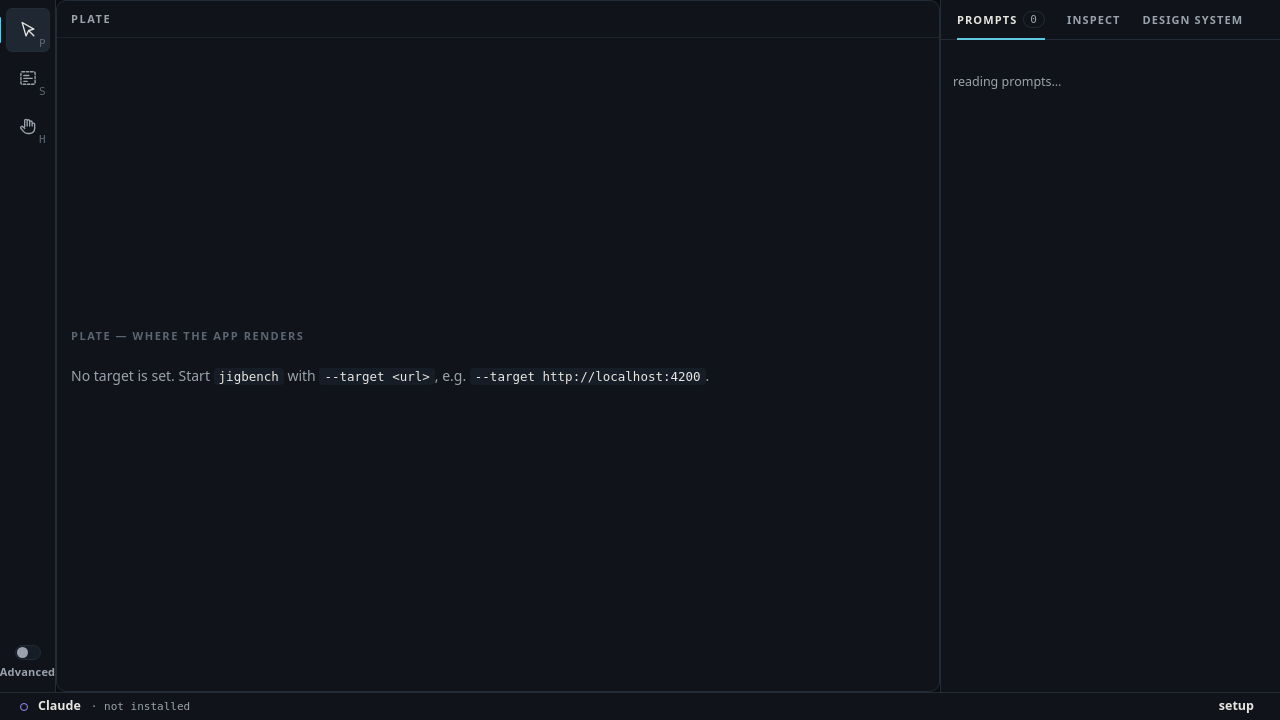
Test: App (#69: the plate is measured, so the card lands inside it) › "build this screen →" opens a card titled with the sketch's name, fully inside the plate
This screenshot has width=1280, height=720.
Click the button named "Sketch —" at point(28, 78), box x1=6 y1=56 x2=50 y2=100
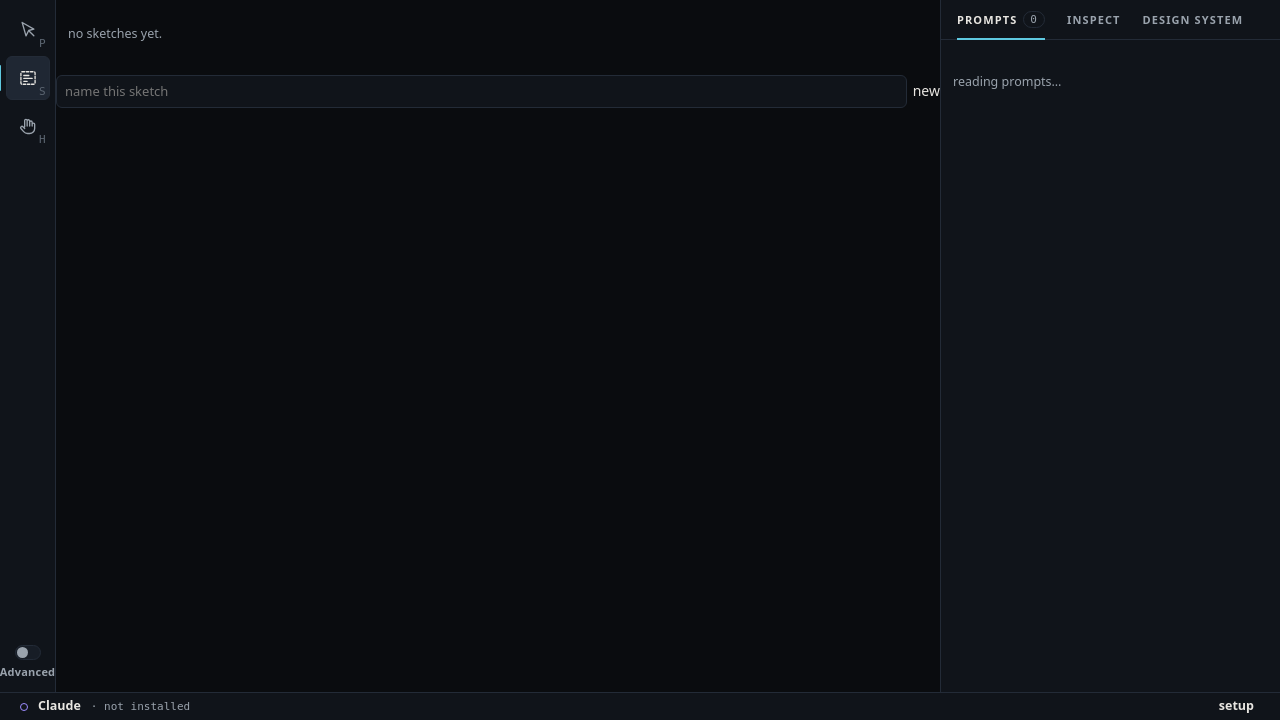
Expected: the text "no sketches yet." is shown, x1=68 y1=24 x2=162 y2=42
Type "Overdue invoices" into the field with placeholder "name this sketch" at point(481, 92), box x1=56 y1=75 x2=907 y2=108
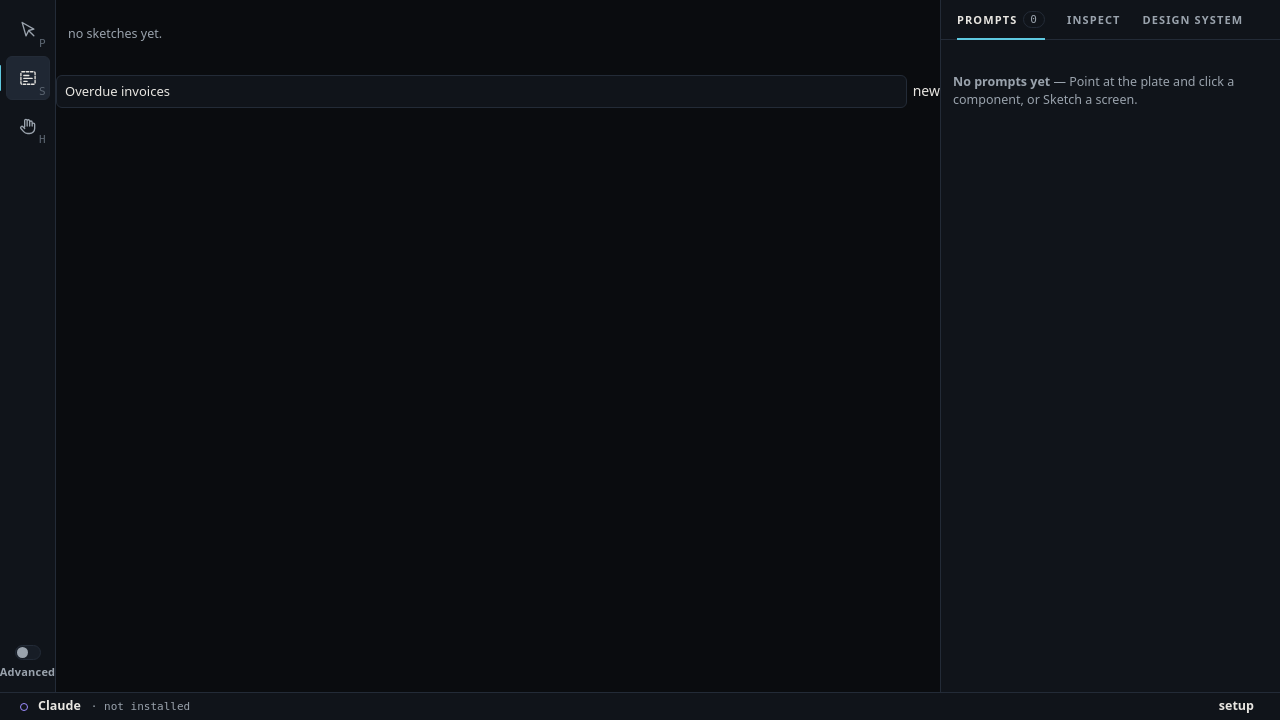
Click the button "new" at point(926, 92), box x1=913 y1=75 x2=940 y2=108
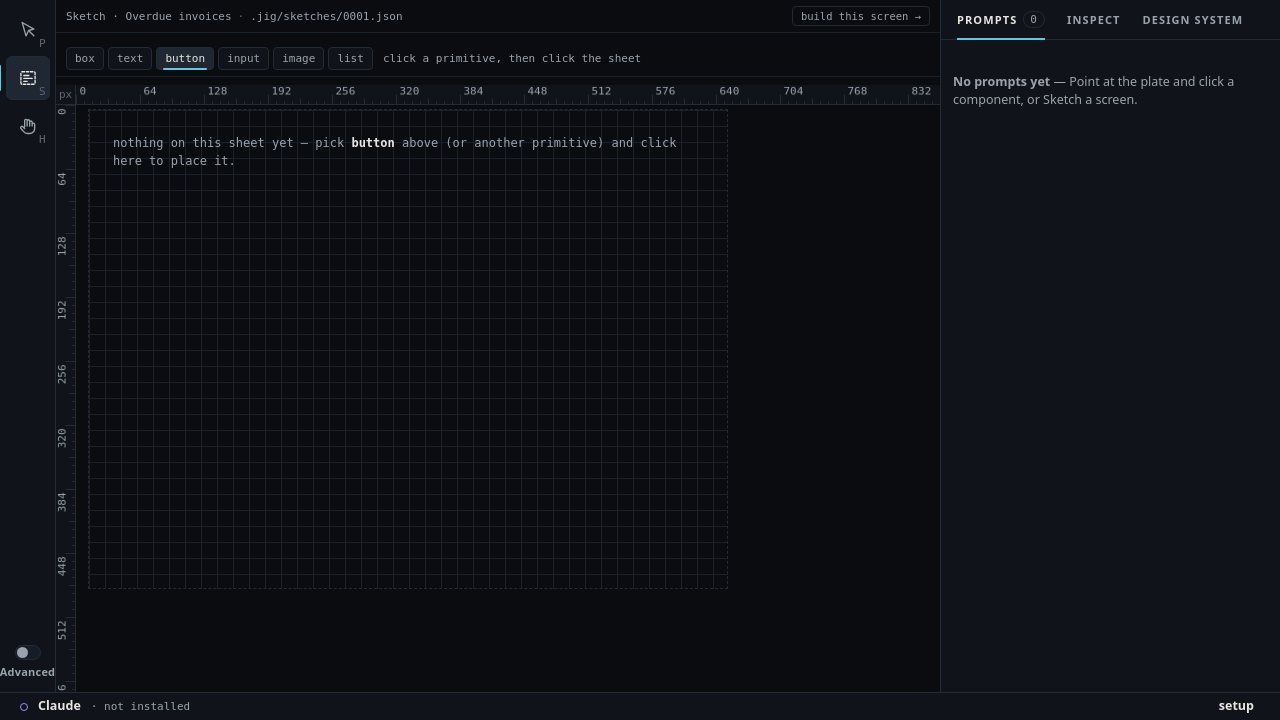
Expected: the element named "sketch sheet" is shown, x1=88 y1=109 x2=728 y2=589
Click the button "build this screen →" at point(861, 16), box x1=792 y1=6 x2=930 y2=26
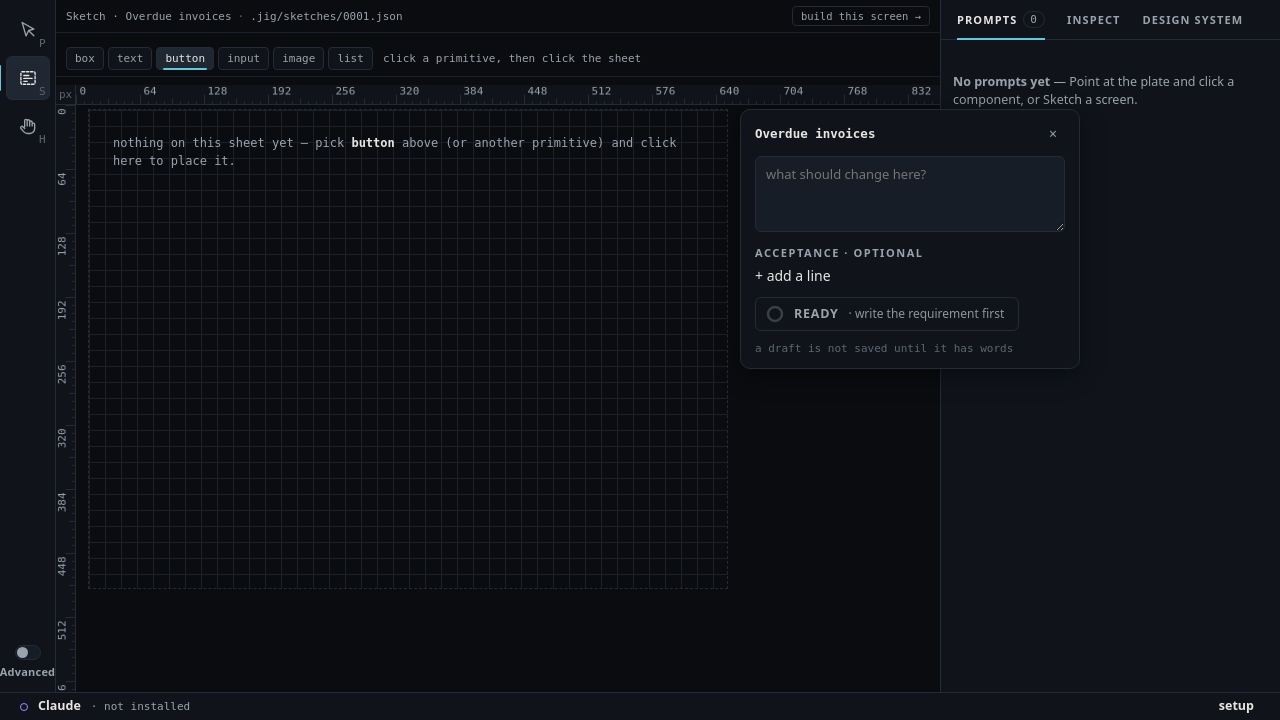
Expected: the text "Overdue invoices" is shown, x1=755 y1=126 x2=875 y2=141
